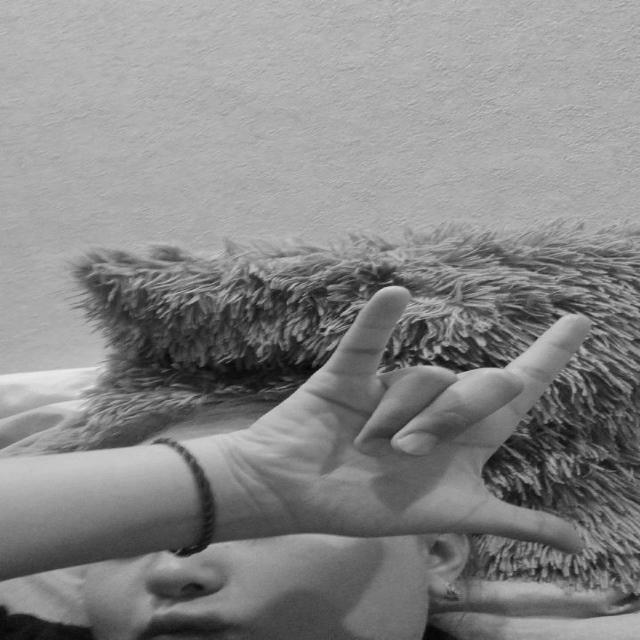i love you: (220, 280, 604, 565)
